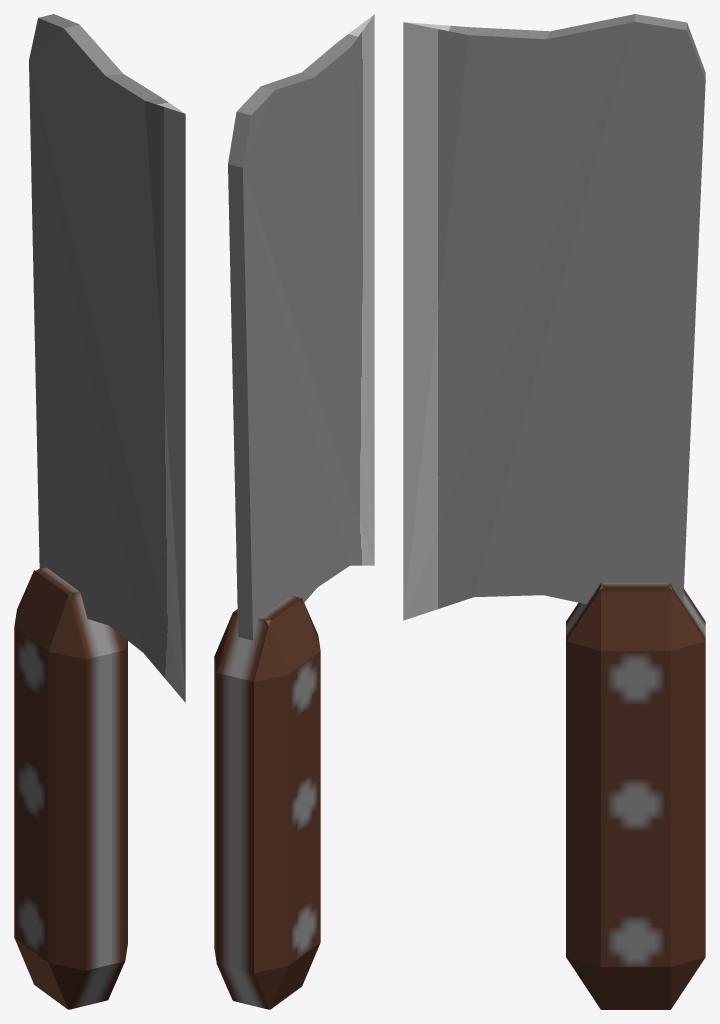
The model's file is Meat Cleaver.fbx.
3 renders of one model, left to right at view 1: azimuth 30°, elevation 25°; view 2: azimuth 150°, elevation 25°; view 3: azimuth 270°, elevation 25°, orthographic. The views are drawn at different scales.
Visible parts, largest first — view 1: cube, beveled_cuboid; view 2: cube, beveled_cuboid; view 3: cube, beveled_cuboid.
Part boxes in pixels (left/top/right/bottom): cube: left=29, top=14, right=185, bottom=702; beveled_cuboid: left=14, top=567, right=127, bottom=1009; cube: left=228, top=14, right=374, bottom=640; beveled_cuboid: left=214, top=595, right=320, bottom=1009; cube: left=403, top=14, right=705, bottom=620; beveled_cuboid: left=566, top=582, right=705, bottom=1009.
Bounding box in the file's own units: 6.25 × 72.81 × 20.31.
